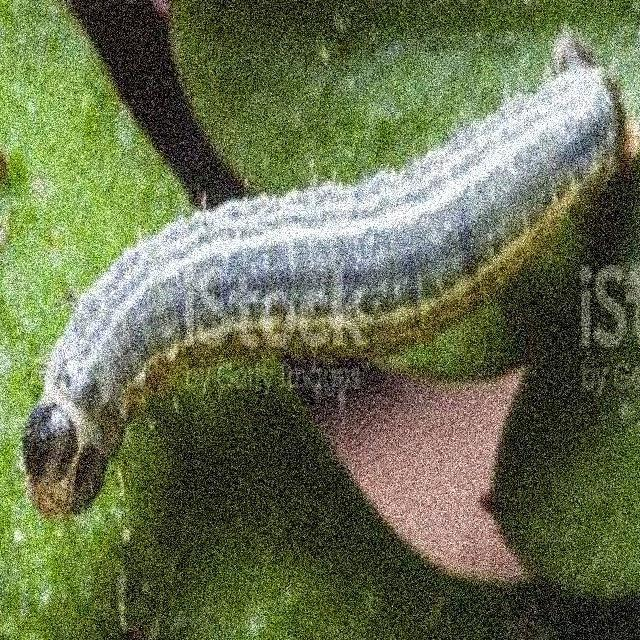gusano_cogollero: (16, 49, 624, 524)
